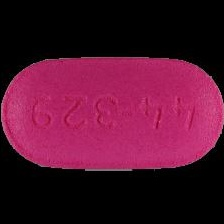0904-5551: (0, 0, 224, 224)
